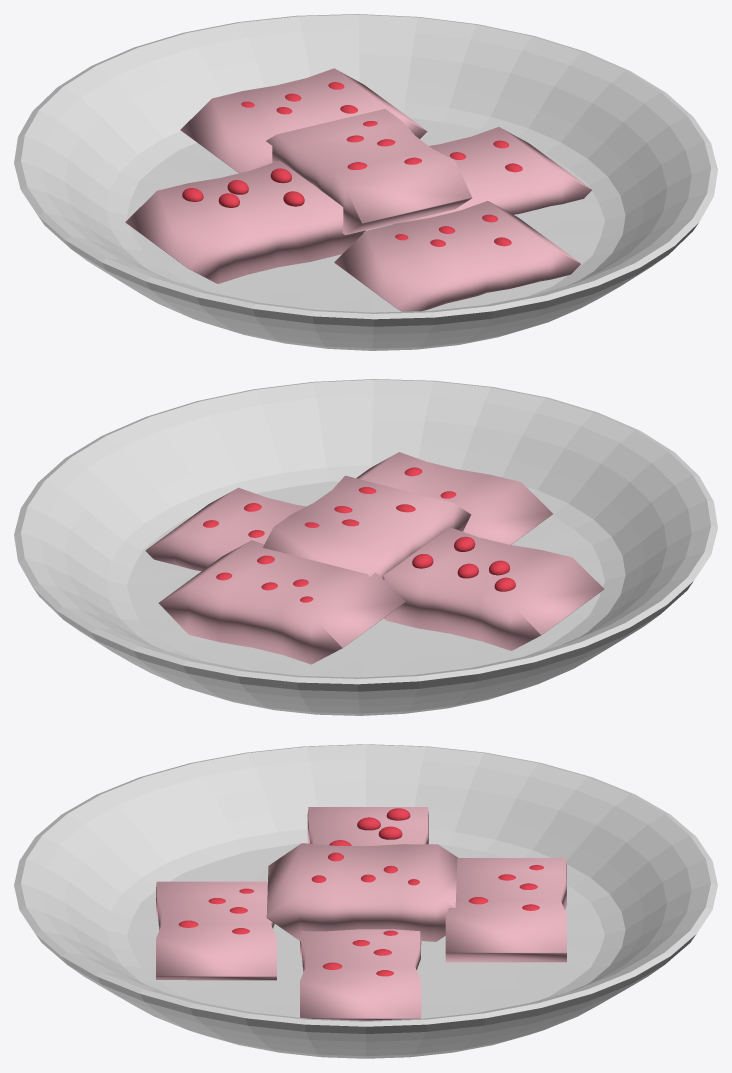
File: kue cantik manis.fbx
3 views of the same model, one above another, from view 1: azimuth 30°, elevation 25°; view 2: azimuth 150°, elevation 25°; view 3: azimuth 270°, elevation 25° (orthographic). The views are drawn at different scales.
Visible parts, largest first — view 1: Cylinder, Cube, Cube.001, Cube.004, Cube.002, Cube.003; view 2: Cylinder, Cube.002, Cube, Cube.004, Cube.001, Cube.003; view 3: Cylinder, Cube.004, Cube.002, Cube.001, Cube.003, Cube.
Part boxes in pixels (left/top/right/bottom): Cylinder: left=14, top=14, right=717, bottom=350; Cube: left=125, top=160, right=365, bottom=283; Cube.001: left=334, top=201, right=580, bottom=311; Cube.004: left=266, top=108, right=472, bottom=235; Cube.002: left=180, top=68, right=427, bottom=173; Cube.003: left=393, top=127, right=591, bottom=224; Cylinder: left=14, top=379, right=717, bottom=715; Cube.002: left=158, top=540, right=405, bottom=664; Cube: left=384, top=527, right=604, bottom=650; Cube.004: left=263, top=475, right=471, bottom=579; Cube.001: left=356, top=452, right=552, bottom=544; Cube.003: left=145, top=487, right=306, bottom=571; Cylinder: left=14, top=744, right=717, bottom=1058; Cube.004: left=266, top=843, right=457, bottom=941; Cube.002: left=445, top=858, right=566, bottom=962; Cube.001: left=156, top=881, right=276, bottom=980; Cube.003: left=300, top=929, right=421, bottom=1020; Cube: left=307, top=807, right=428, bottom=845.
Size of the model in its own units: 151 by 24.07 by 159.
